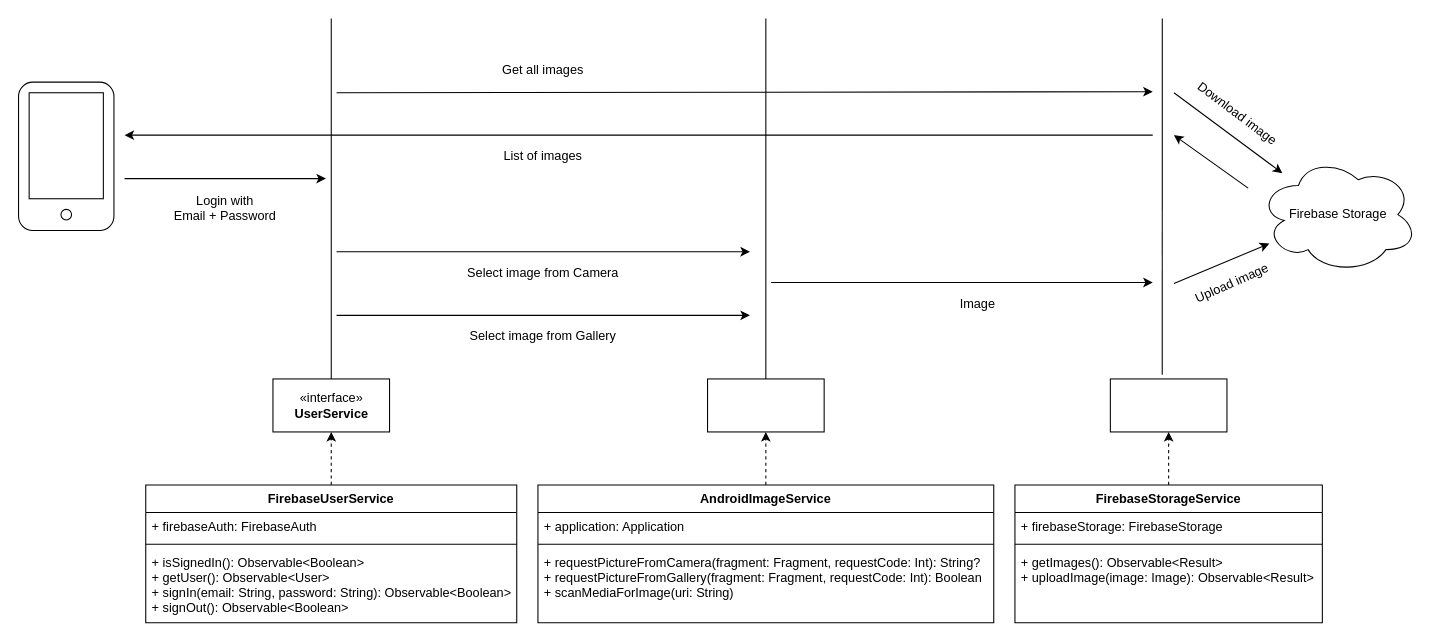
Some shapes in this 1436 by 644 pixel diagram are drawn without their labels. Here are the shapes that lost their labels. From the top down, the centre of each, then its label:
At point 765,405: "«interface» ImageService".
At point 1168,405: "«interface» StorageService".
